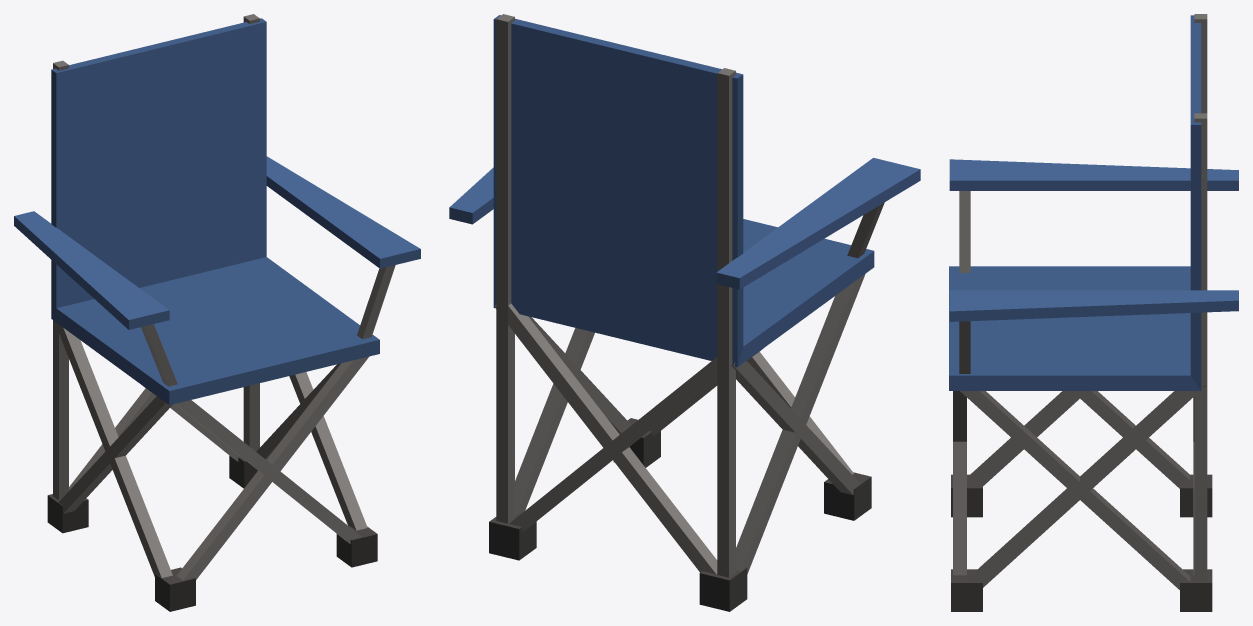
File: SA_Prop_FoldoutChair_02.glb
3 views of the same model, side by side, from view 1: azimuth 30°, elevation 25°; view 2: azimuth 150°, elevation 25°; view 3: azimuth 270°, elevation 25° (orthographic). The views are drawn at different scales.
Visible parts, largest first — view 1: SA_Prop_FoldoutChair_02; view 2: SA_Prop_FoldoutChair_02; view 3: SA_Prop_FoldoutChair_02.
Boxes of the visible parts, <box> form: SA_Prop_FoldoutChair_02: <box>14,14,420,611</box>; SA_Prop_FoldoutChair_02: <box>449,14,920,611</box>; SA_Prop_FoldoutChair_02: <box>949,14,1238,611</box>.
Bounding box in the file's own units: 0.575 × 0.8661 × 0.463.
Materials: 1 (1 with a texture image).
